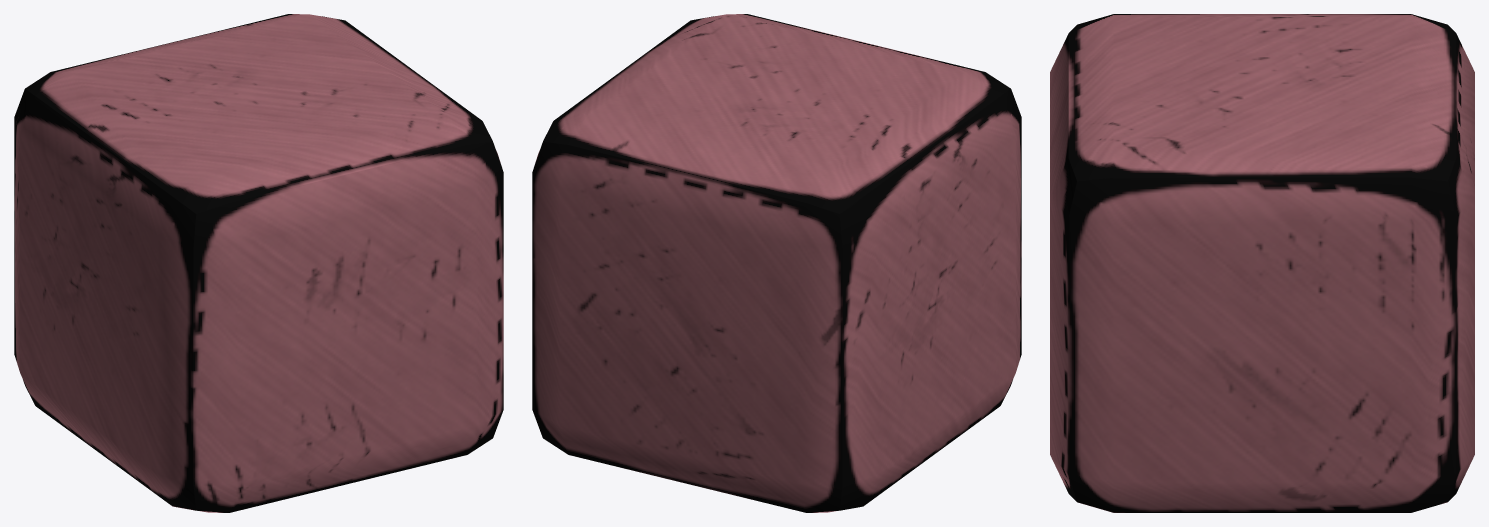
Rendered from GON-2D-cube-smashTEX-smash.fbx.
3 renders of one model, left to right at view 1: azimuth 30°, elevation 25°; view 2: azimuth 150°, elevation 25°; view 3: azimuth 270°, elevation 25°, orthographic. The views are drawn at different scales.
Parts seen in each view (by area): view 1: pCube2; view 2: pCube2; view 3: pCube2.
Boxes of the visible parts, left/top/right/bottom form: pCube2: left=14, top=14, right=503, bottom=512; pCube2: left=532, top=14, right=1021, bottom=512; pCube2: left=1050, top=14, right=1474, bottom=512.
Bounding box in the file's own units: 1.86 × 1.78 × 1.86.
1 material, 1 textured.
